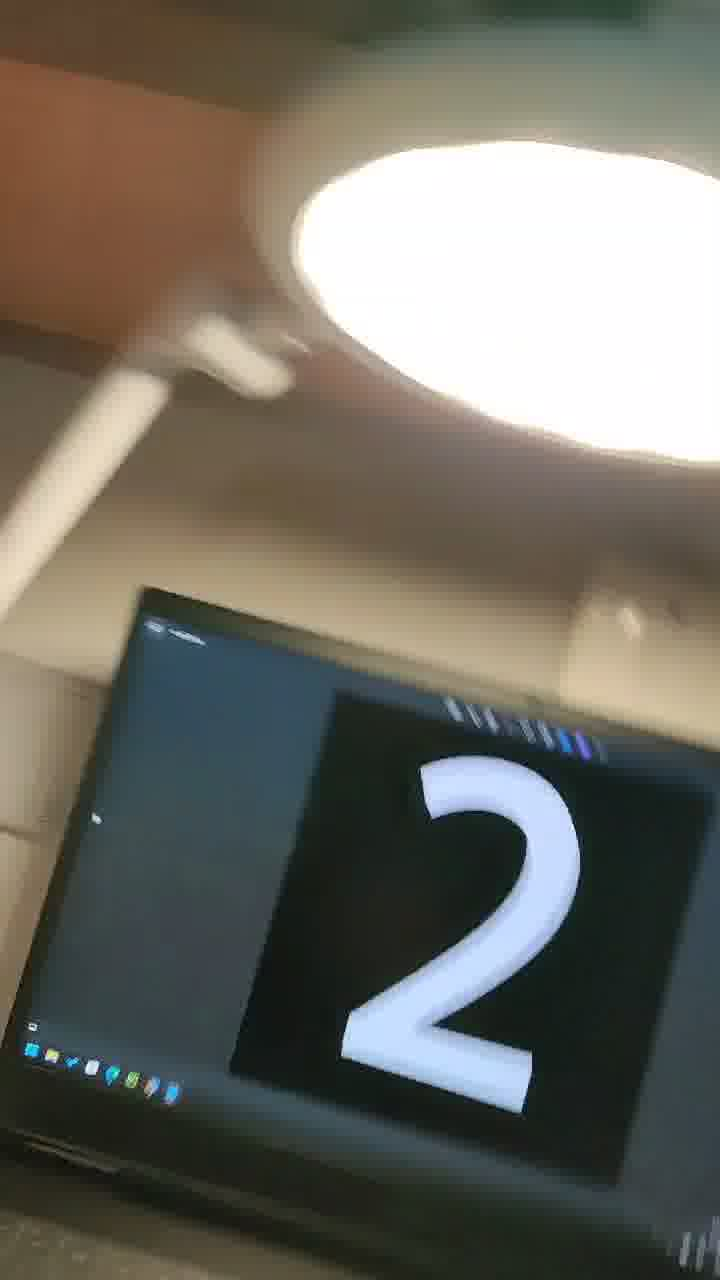two: (336, 641, 631, 1170)
